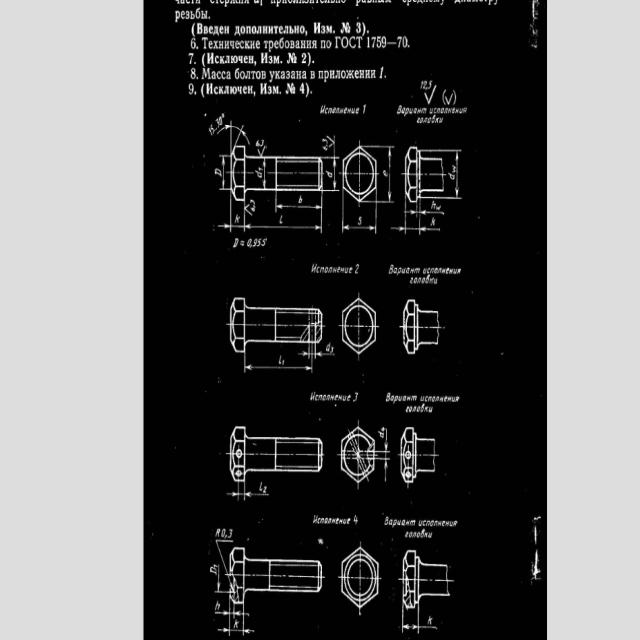marking_line: (218, 201, 324, 235), (391, 203, 442, 236), (243, 352, 313, 373), (219, 604, 255, 637), (275, 191, 325, 214), (341, 205, 378, 236), (378, 145, 396, 205), (401, 609, 438, 638), (216, 118, 251, 146), (375, 427, 392, 483), (215, 537, 232, 589), (446, 148, 462, 201), (227, 481, 270, 500), (403, 204, 446, 218), (324, 156, 340, 193), (298, 344, 337, 359), (215, 604, 250, 618), (215, 564, 230, 594), (218, 154, 230, 190), (262, 159, 268, 189)
numeric: (297, 193, 305, 205), (214, 167, 222, 178), (214, 527, 221, 539), (371, 36, 377, 49), (353, 514, 360, 525), (325, 169, 333, 178), (233, 619, 240, 629), (381, 35, 386, 49), (353, 392, 359, 403), (300, 82, 305, 95), (403, 35, 408, 48), (397, 35, 402, 48), (356, 21, 361, 34), (448, 173, 456, 181), (255, 170, 263, 178), (426, 615, 433, 624), (234, 214, 241, 223), (209, 567, 216, 575), (377, 431, 385, 438), (228, 528, 233, 539), (215, 600, 220, 611), (354, 263, 359, 274), (301, 52, 306, 63), (257, 236, 262, 247), (221, 528, 227, 537), (382, 169, 388, 178), (430, 217, 436, 226), (451, 164, 457, 173), (380, 66, 384, 79), (259, 482, 264, 492), (358, 215, 363, 225), (253, 238, 258, 248), (377, 36, 381, 48), (263, 485, 268, 494), (234, 239, 239, 248), (262, 237, 267, 246), (215, 118, 219, 129), (431, 201, 436, 209), (210, 125, 214, 135), (218, 116, 222, 126), (247, 239, 252, 247), (362, 105, 366, 115), (326, 343, 331, 351), (278, 355, 282, 365), (279, 215, 283, 224), (209, 128, 213, 137), (261, 139, 265, 148), (249, 207, 255, 213), (330, 347, 335, 354), (367, 37, 370, 48), (322, 145, 328, 150), (250, 200, 256, 205), (258, 166, 264, 171), (323, 139, 328, 144), (436, 205, 441, 210), (256, 139, 259, 147), (214, 564, 218, 569), (282, 360, 284, 366)
special_symbol: (382, 540, 396, 605), (529, 548, 543, 584), (525, 507, 543, 522), (424, 85, 437, 104), (205, 530, 214, 555), (317, 536, 332, 549), (532, 526, 540, 545), (256, 518, 267, 529), (445, 93, 453, 105), (257, 146, 267, 155), (327, 136, 334, 148), (251, 442, 261, 449), (245, 536, 252, 543), (212, 618, 217, 623)
